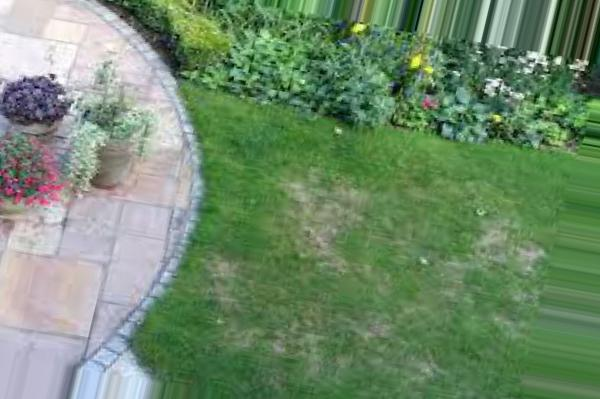patch: (471, 218, 555, 286), (290, 187, 363, 254)
